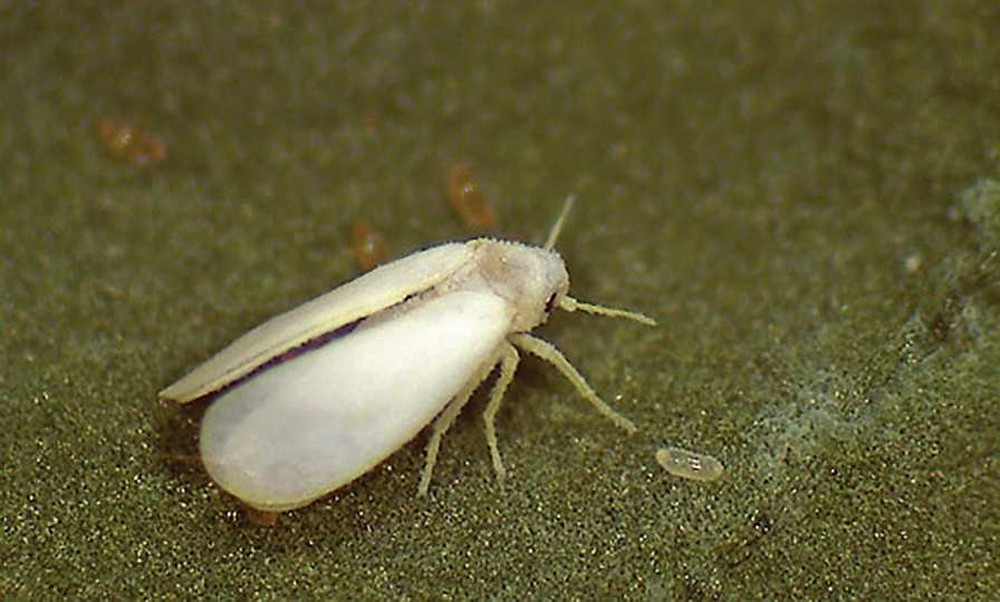Mosca Blanca: (144, 191, 654, 517)
